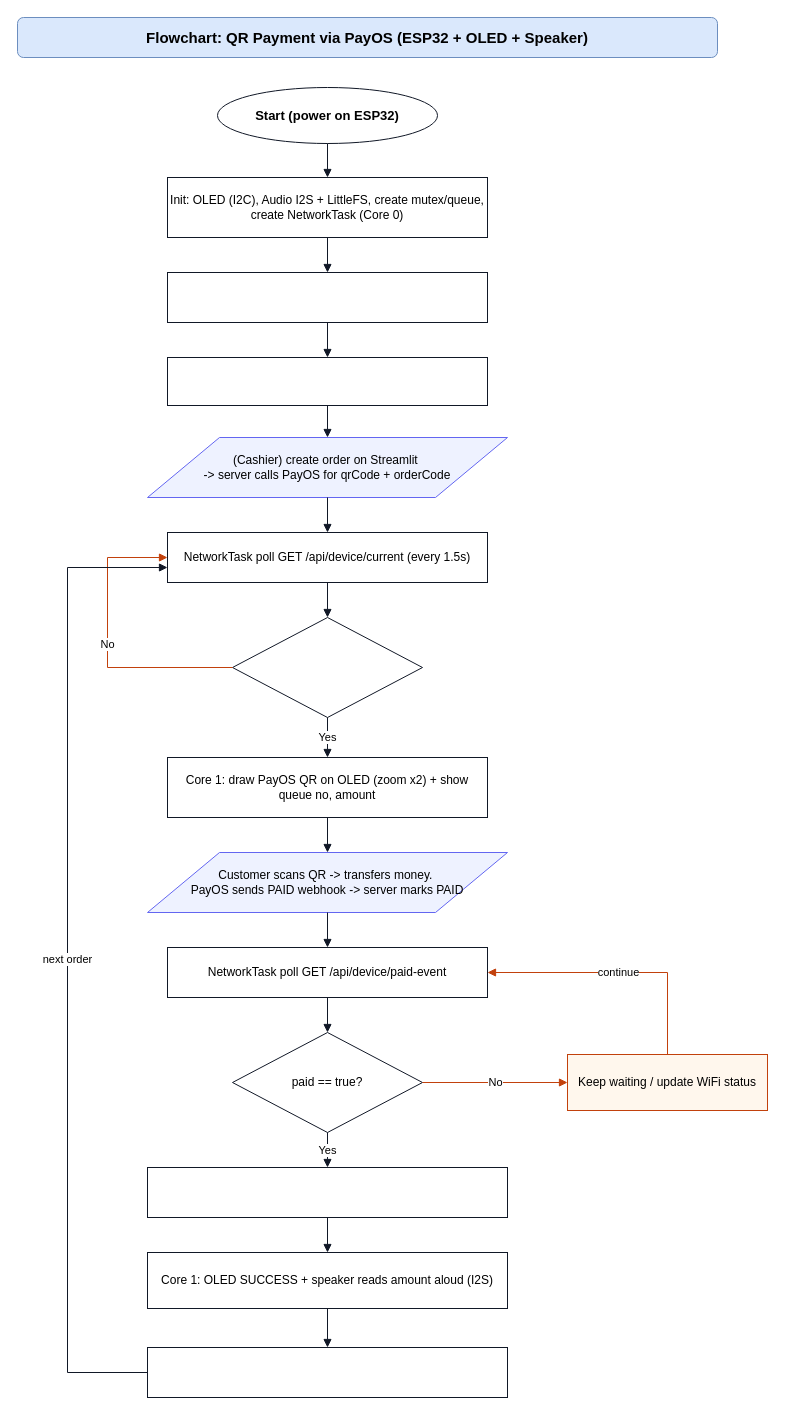
The diagram is 785 pixels wide and 1415 high, and some of its shapes have lost their labels. Each missing label, with the box of its shape:
NetworkTask: connect WiFi LAN (setup does not block on WiFi): (166, 272, 488, 322)
OLED shows Ready / wait for order: (166, 356, 488, 406)
Pending order?: (232, 616, 422, 718)
push PaidEvent into FreeRTOS queue (Core 0 -> Core 1): (146, 1166, 508, 1218)
Wait >= 4s and audio done -> back to Ready: (146, 1346, 508, 1398)
